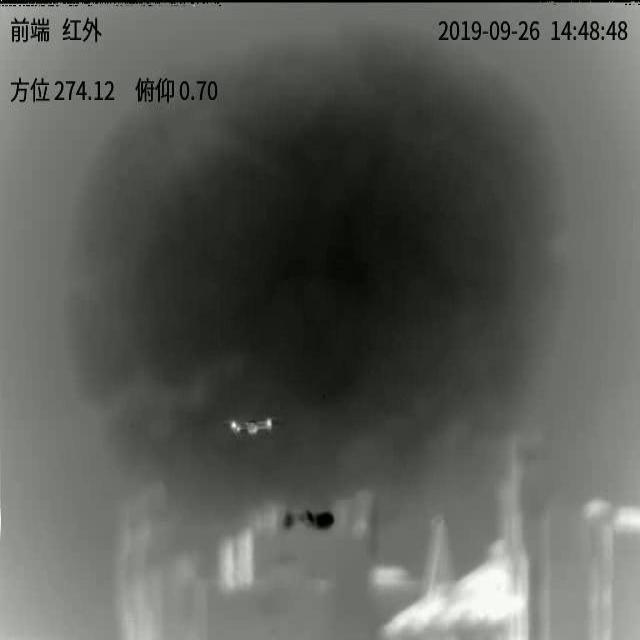drone: (231, 417, 272, 435)
